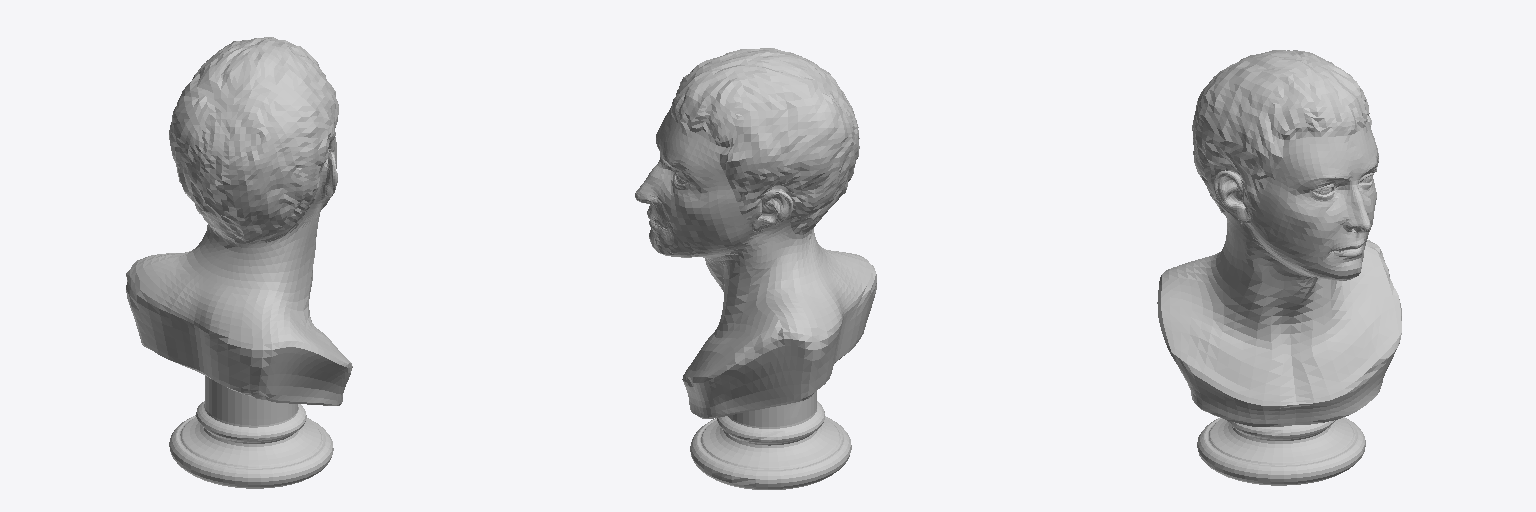
The model's file is marbleBust.obj.
3 views of the same model, side by side, from view 1: azimuth 30°, elevation 25°; view 2: azimuth 150°, elevation 25°; view 3: azimuth 270°, elevation 25° (orthographic).
Visible parts, largest first — view 1: marble_bust_01; view 2: marble_bust_01; view 3: marble_bust_01.
Boxes of the visible parts, <box> form: marble_bust_01: <box>126,37,352,488</box>; marble_bust_01: <box>635,48,876,489</box>; marble_bust_01: <box>1157,50,1401,485</box>.
Size of the model in its own units: 0.2412 by 0.5149 by 0.2841.